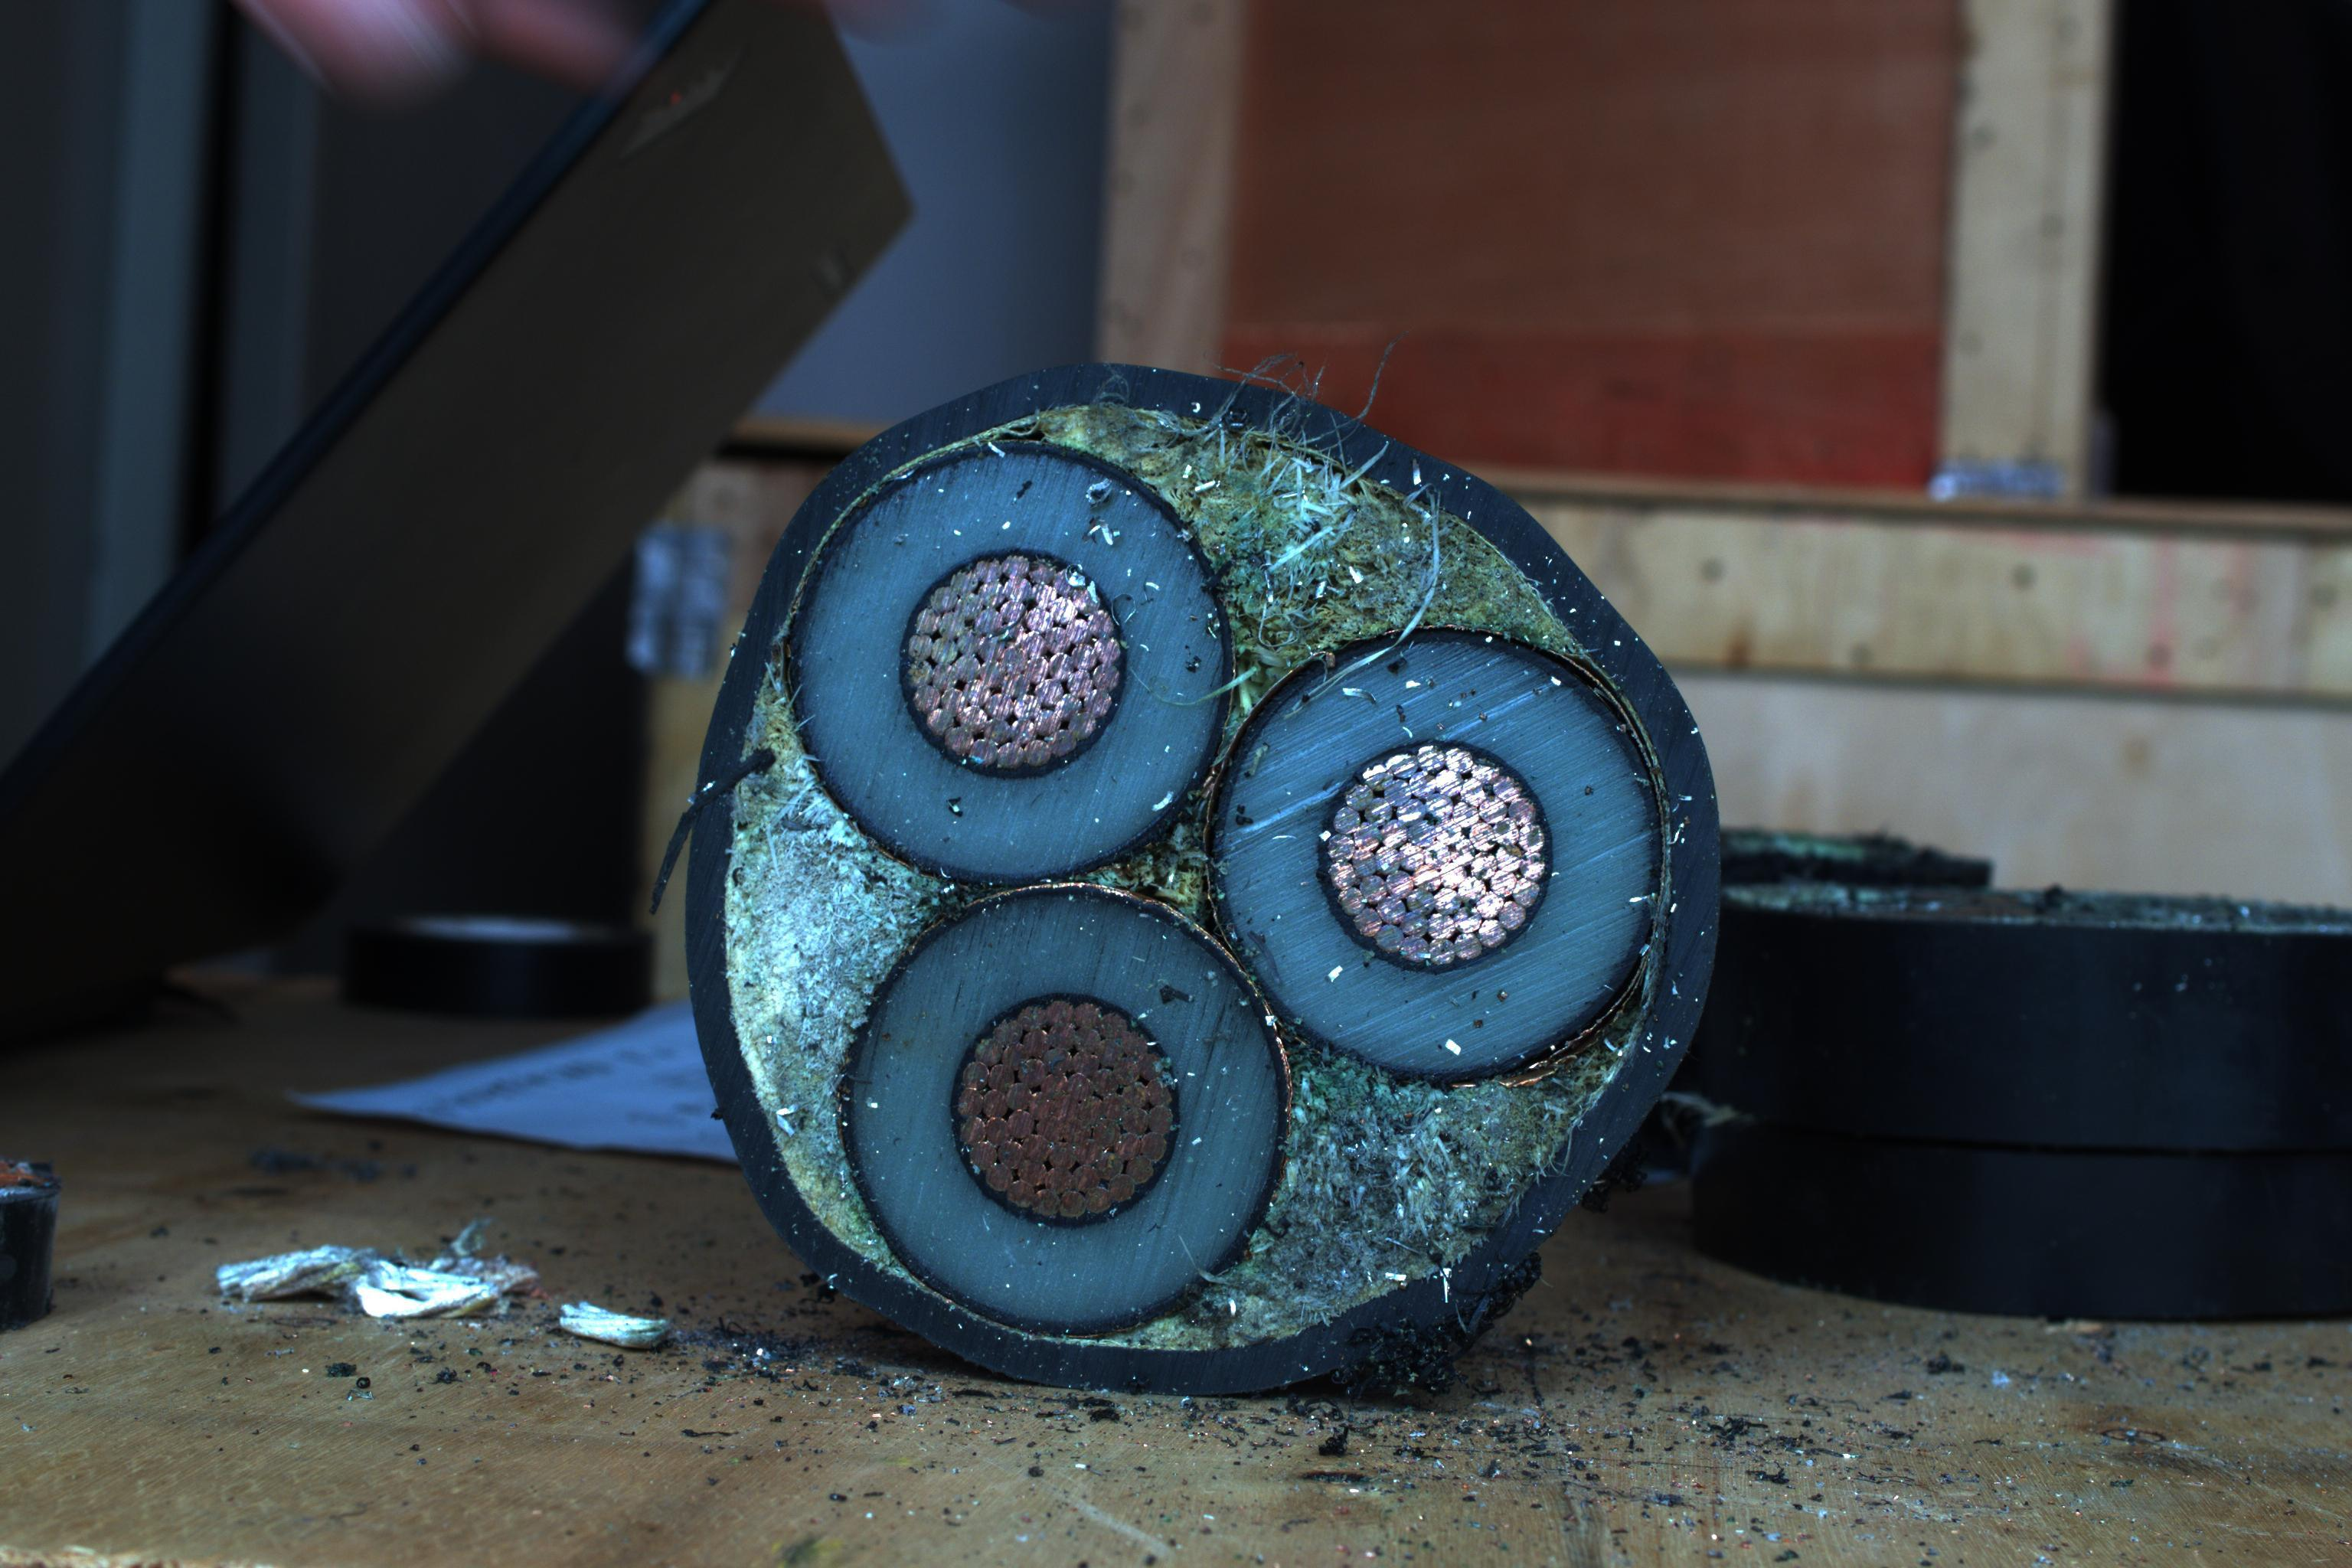ZA_YJV_26_35kV_3x400: (712, 387, 1750, 1384)
